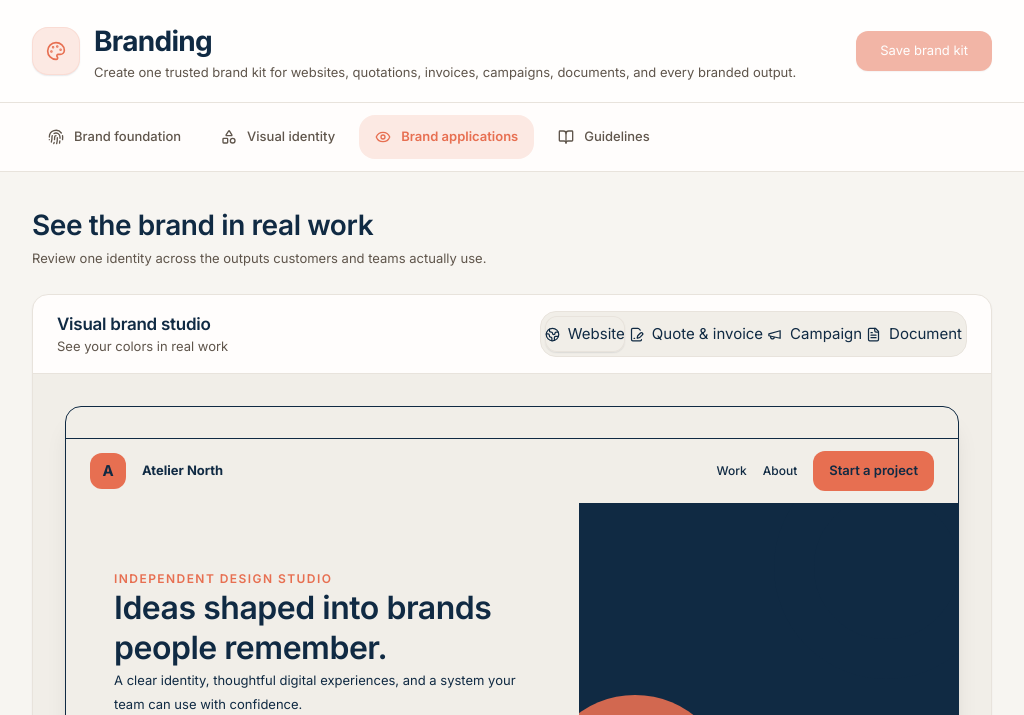
it: Branding › previews the shared kit across four real applications
What coordinates should you click on to do the following:
click the tab "Quote & invoice"
I would click on:
 (696, 334)
Its box is x1=629 y1=316 x2=763 y2=352.
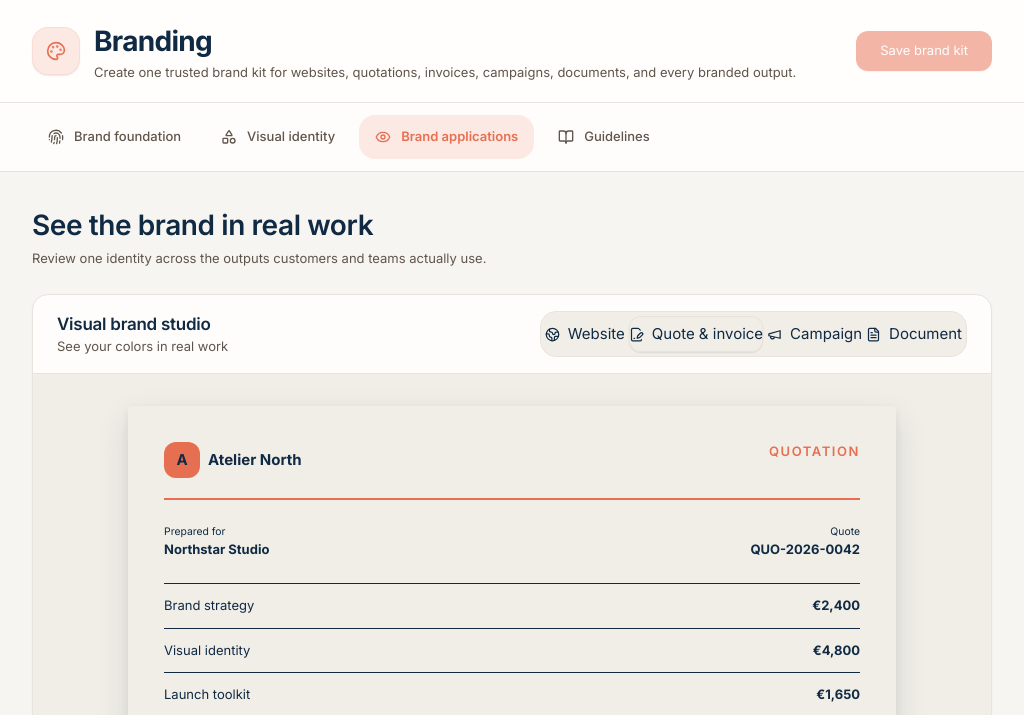
Expected: the text "QUO-2026-0042" is shown, x1=750 y1=541 x2=860 y2=557
What coordinates should you click on to do the following:
click the tab "Campaign"
I would click on:
 (815, 334)
Its box is x1=767 y1=316 x2=862 y2=352.
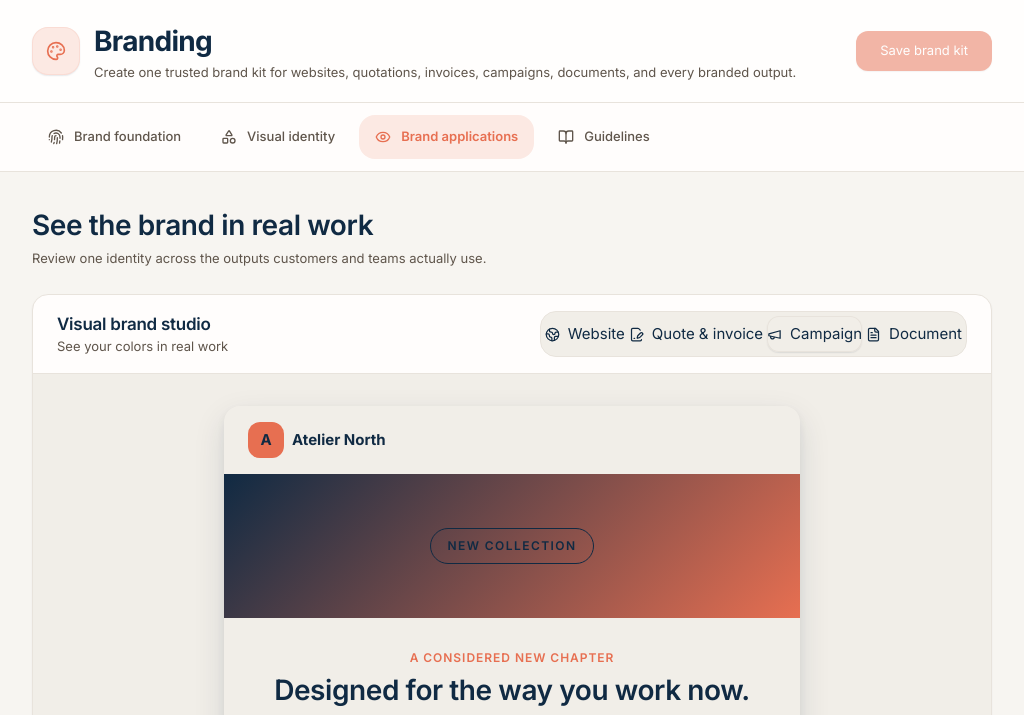
Expected: the text "NEW COLLECTION" is shown, x1=430 y1=528 x2=594 y2=564
What coordinates should you click on to do the following:
click the tab "Document"
I would click on:
 (914, 334)
Its box is x1=866 y1=316 x2=962 y2=352.
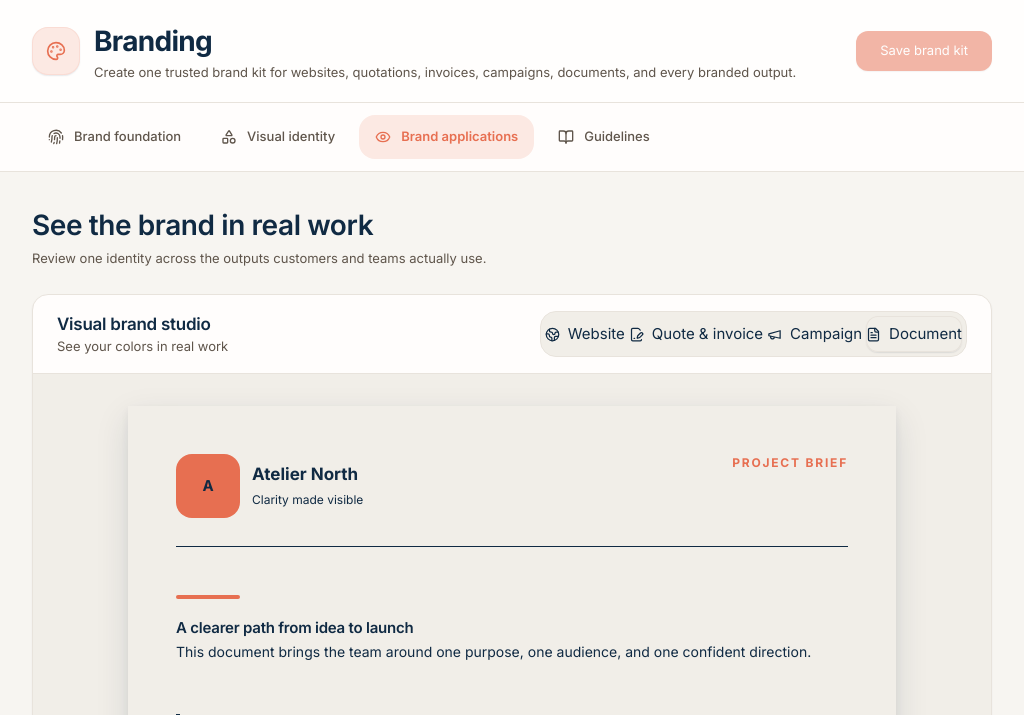
Expected: the text "PROJECT BRIEF" is shown, x1=732 y1=454 x2=848 y2=472
